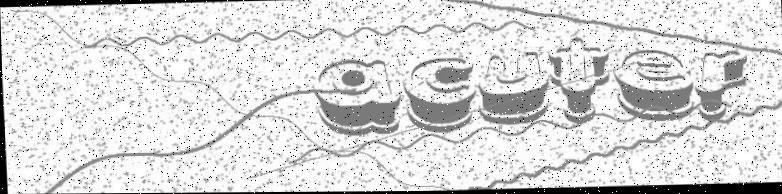a: (311, 57, 402, 139)
c: (401, 57, 477, 134)
e: (610, 48, 694, 123)
r: (691, 52, 749, 122)
t: (546, 34, 613, 125)
u: (474, 51, 550, 127)
